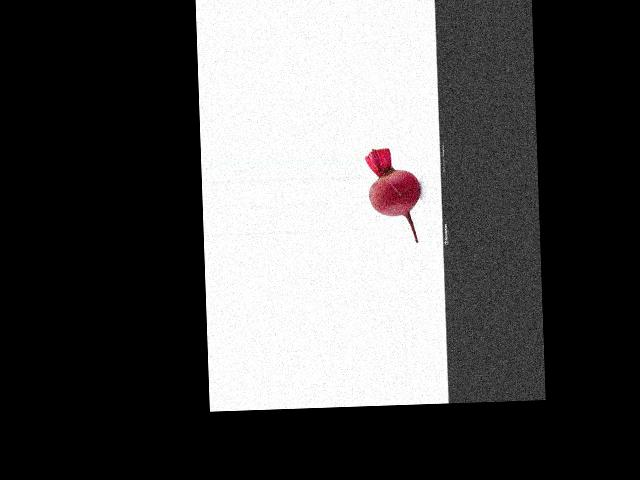beet: (364, 147, 422, 244)
